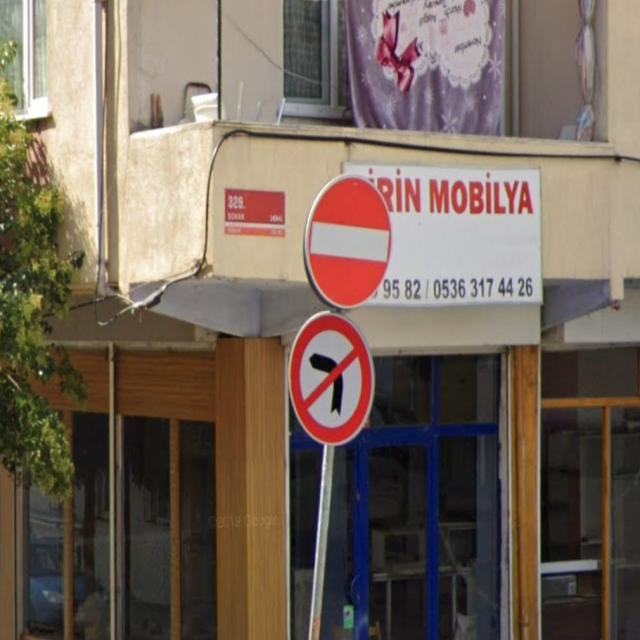girisyok: (304, 175, 392, 307)
soladonulmez: (289, 312, 375, 444)
